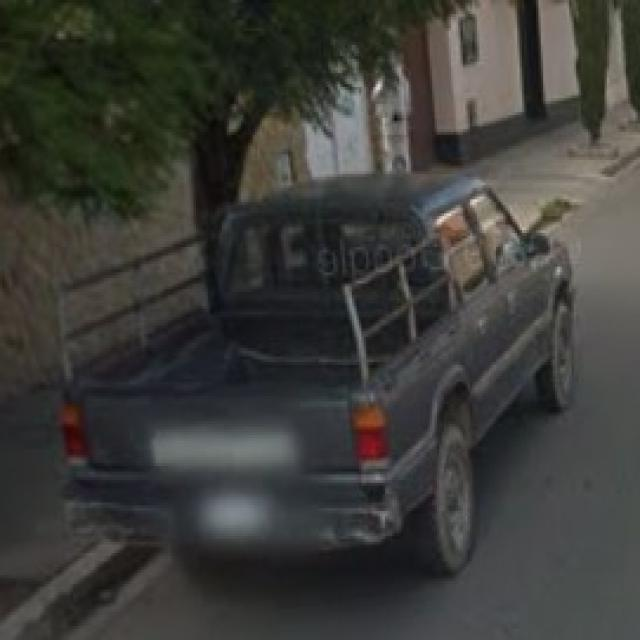car: (57, 169, 577, 578)
